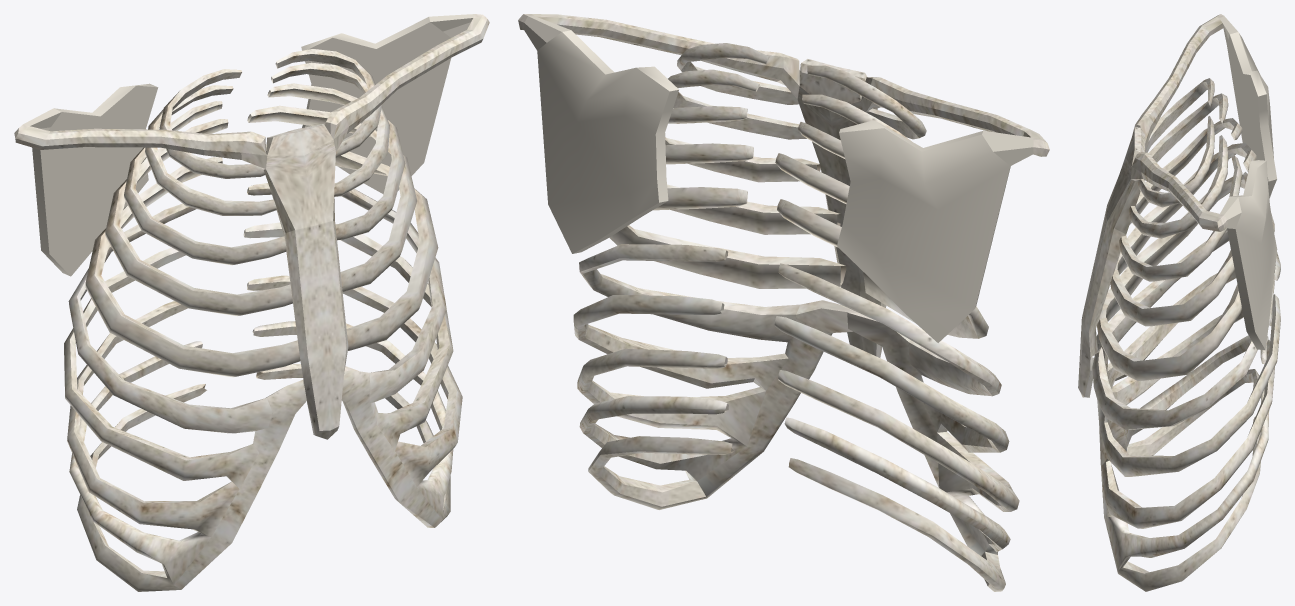
File: Human ribs.fbx
3 renders of one model, left to right at view 1: azimuth 30°, elevation 25°; view 2: azimuth 150°, elevation 25°; view 3: azimuth 270°, elevation 25°, orthographic. The views are drawn at different scales.
Visible parts, largest first — view 1: polySurface13, polySurface14, polySurface12, polySurface4, polySurface7, polySurface2, polySurface5, polySurface9, polySurface3, polySurface8, polySurface10, polySurface1 (+1 smaller); view 2: polySurface13, polySurface12, polySurface14, polySurface5, polySurface9, polySurface3, polySurface10, polySurface4, polySurface11, polySurface1, polySurface7, polySurface8 (+1 smaller); view 3: polySurface13, polySurface12, polySurface14, polySurface5, polySurface9, polySurface3, polySurface4, polySurface10, polySurface7, polySurface8, polySurface2, polySurface11 (+1 smaller).
Part boxes in pixels (<box>): polySurface13: <box>14,14,489,439</box>; polySurface14: <box>64,203,306,591</box>; polySurface12: <box>243,183,462,527</box>; polySurface4: <box>85,157,300,377</box>; polySurface7: <box>105,119,292,316</box>; polySurface2: <box>124,101,286,265</box>; polySurface5: <box>266,144,438,350</box>; polySurface9: <box>247,105,416,291</box>; polySurface3: <box>267,83,405,240</box>; polySurface8: <box>145,85,276,215</box>; polySurface10: <box>271,62,389,196</box>; polySurface1: <box>159,69,265,178</box>; polySurface13: <box>518,14,1049,357</box>; polySurface12: <box>573,244,859,509</box>; polySurface14: <box>774,263,1019,591</box>; polySurface5: <box>609,187,846,288</box>; polySurface9: <box>665,143,840,234</box>; polySurface3: <box>665,106,820,182</box>; polySurface10: <box>668,69,806,139</box>; polySurface4: <box>777,199,988,338</box>; polySurface11: <box>677,43,798,104</box>; polySurface1: <box>807,65,926,139</box>; polySurface7: <box>775,153,849,203</box>; polySurface8: <box>802,94,911,141</box>; polySurface13: <box>1078,14,1277,397</box>; polySurface12: <box>1092,275,1280,591</box>; polySurface14: <box>1095,214,1280,455</box>; polySurface5: <box>1097,284,1241,380</box>; polySurface9: <box>1110,172,1247,326</box>; polySurface3: <box>1119,154,1242,281</box>; polySurface4: <box>1098,174,1245,321</box>; polySurface10: <box>1128,135,1228,238</box>; polySurface7: <box>1115,143,1256,274</box>; polySurface8: <box>1149,93,1228,162</box>; polySurface2: <box>1129,118,1242,224</box>; polySurface11: <box>1138,116,1214,207</box>.
Size of the model in its own units: 40.79 by 38.35 by 16.75.
1 material, 1 textured.
